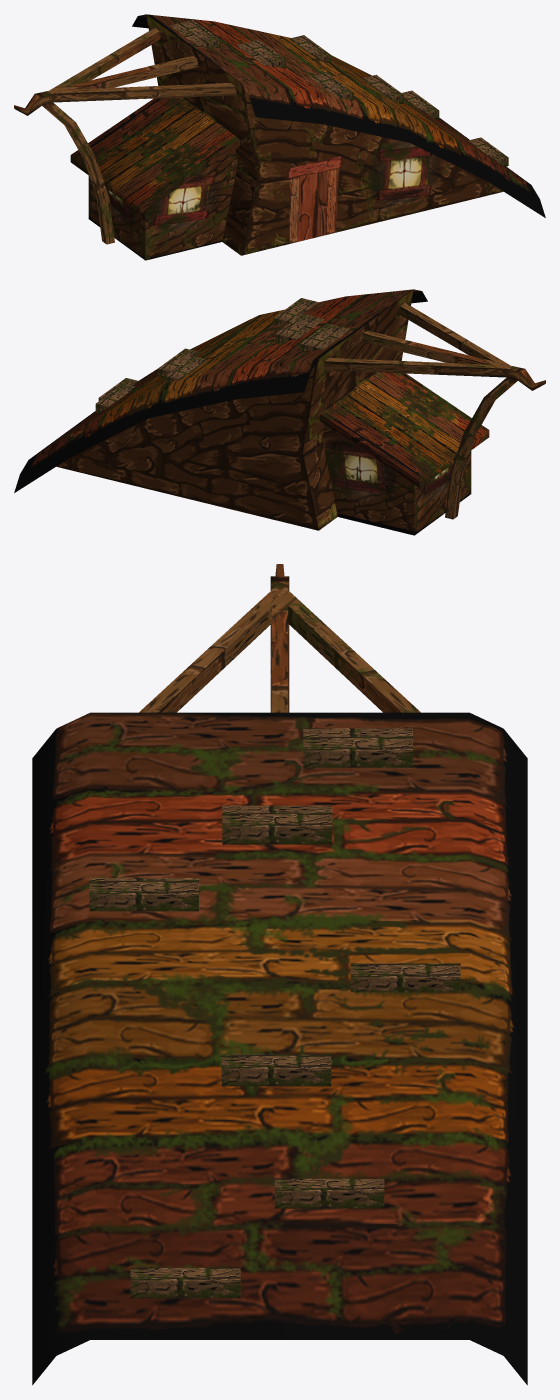
The model's file is house4.fbx.
3 views of the same model, one above another, from view 1: azimuth 30°, elevation 25°; view 2: azimuth 150°, elevation 25°; view 3: azimuth 270°, elevation 25° (orthographic). The views are drawn at different scales.
Visible parts, largest first — view 1: House, Side_house, Roof, Support_strud, Stair_bit; view 2: House, Side_house, Roof, Support_strud, Stair_bit; view 3: Roof, Stair_bit, Support_strud.
Boxes of the visible parts, <box> form: House: <box>146,14,503,255</box>; Side_house: <box>70,97,240,260</box>; Roof: <box>132,14,545,217</box>; Support_strud: <box>14,27,236,244</box>; Stair_bit: <box>170,20,508,166</box>; House: <box>56,289,413,530</box>; Side_house: <box>319,372,489,535</box>; Roof: <box>14,289,427,492</box>; Support_strud: <box>323,302,545,519</box>; Stair_bit: <box>95,298,350,412</box>; Roof: <box>32,712,527,1385</box>; Stair_bit: <box>89,728,460,1298</box>; Support_strud: <box>139,564,420,712</box>.
Bounding box in the file's own units: 571 × 227 × 261.
1 material, 1 textured.
